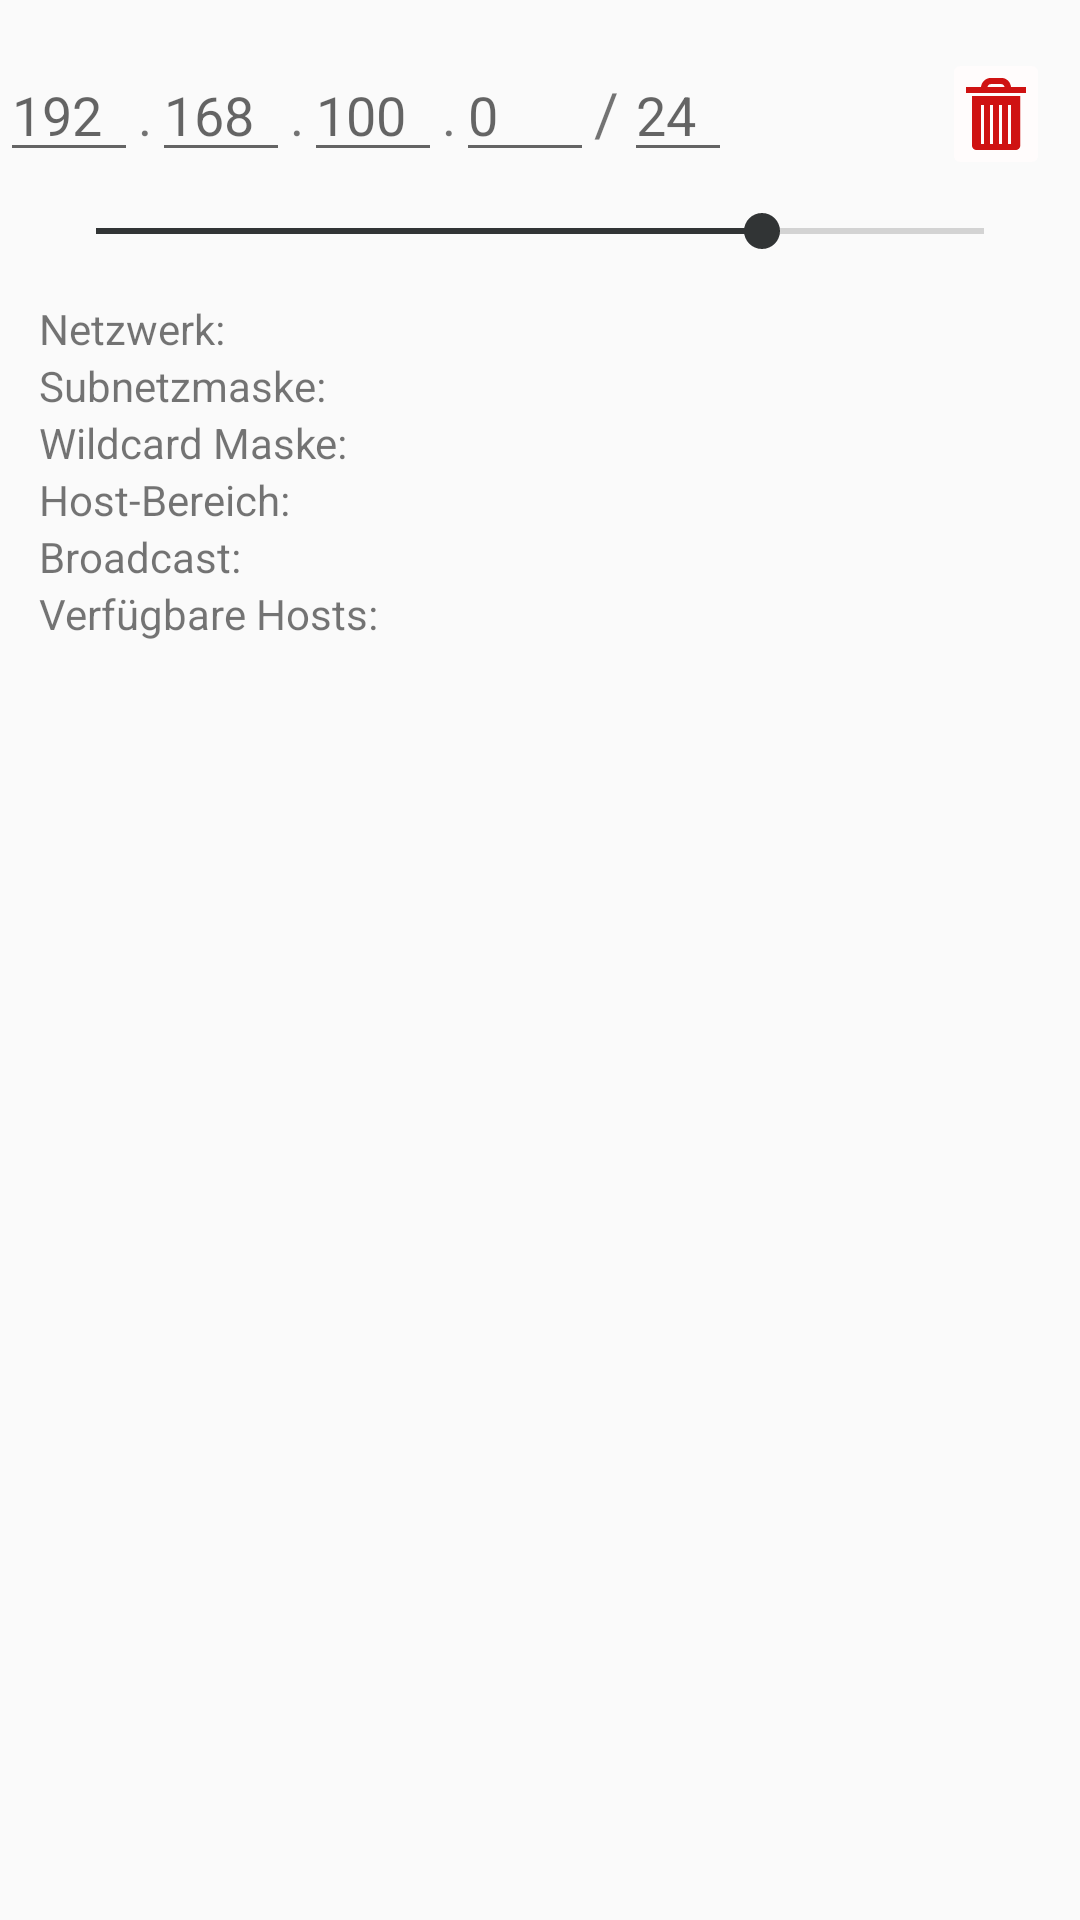

Icons on this 1080px x 1920px Android screen, each with its box as [x1=x1, y1=y1, x2=x2, y2=y2]:
clear button: [x1=966, y1=78, x2=1026, y2=150]
